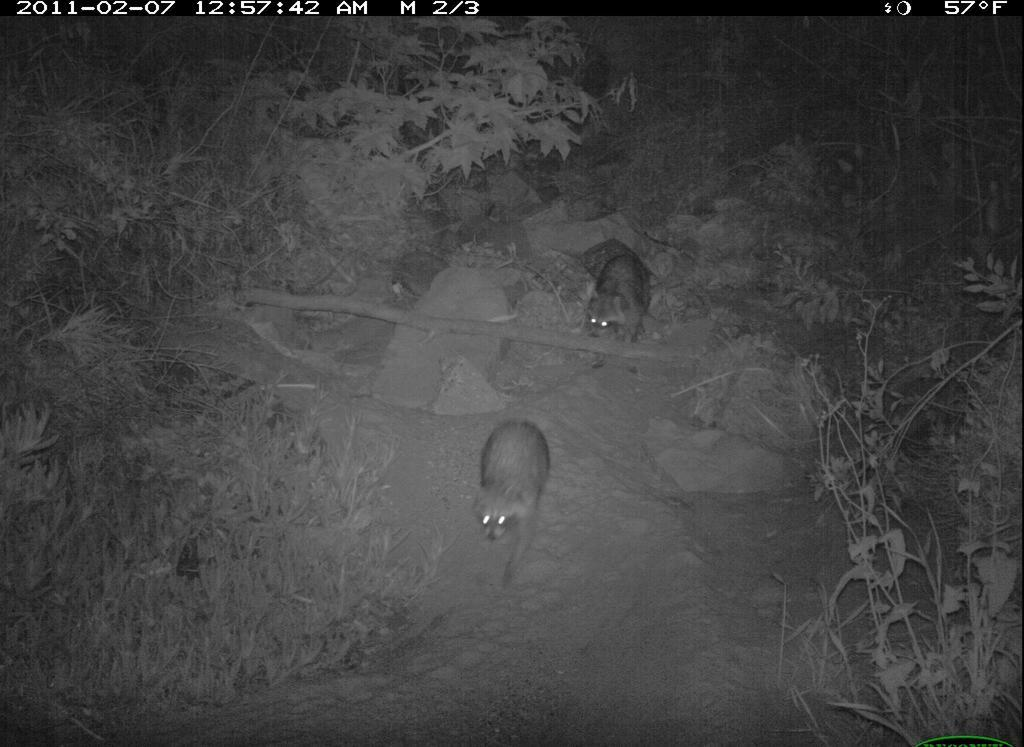raccoon: (463, 405, 565, 594), (568, 222, 675, 377)
